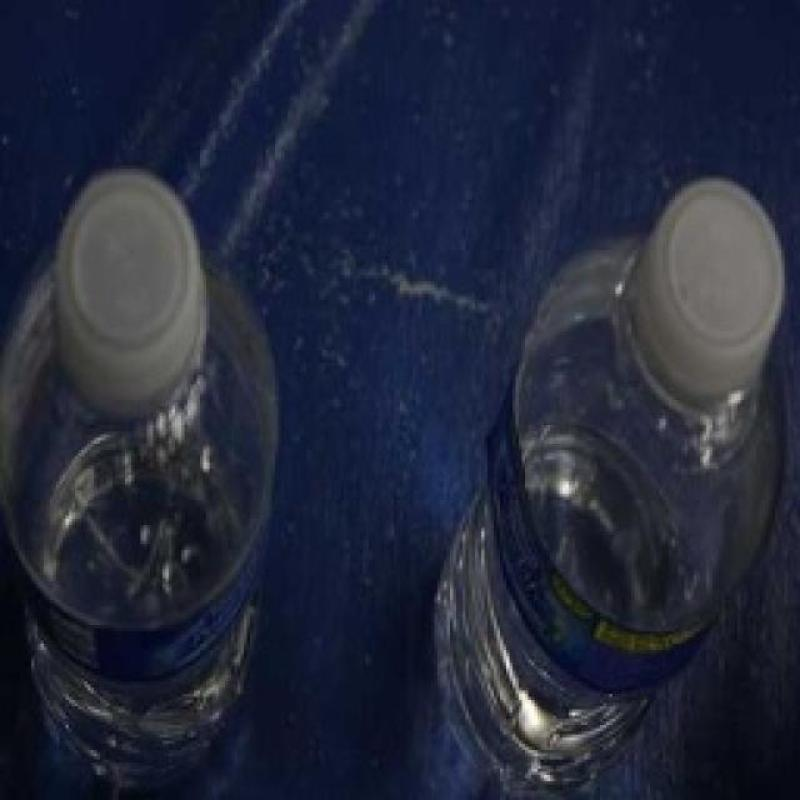botella: (429, 177, 785, 800), (0, 165, 281, 785)
